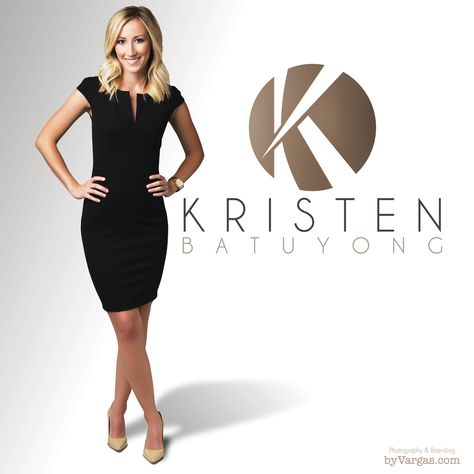person: (32, 3, 203, 471)
